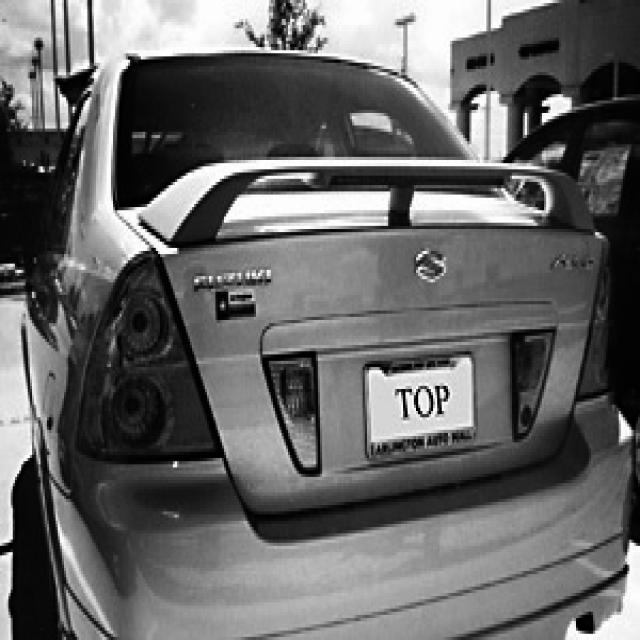car: (19, 47, 636, 637)
